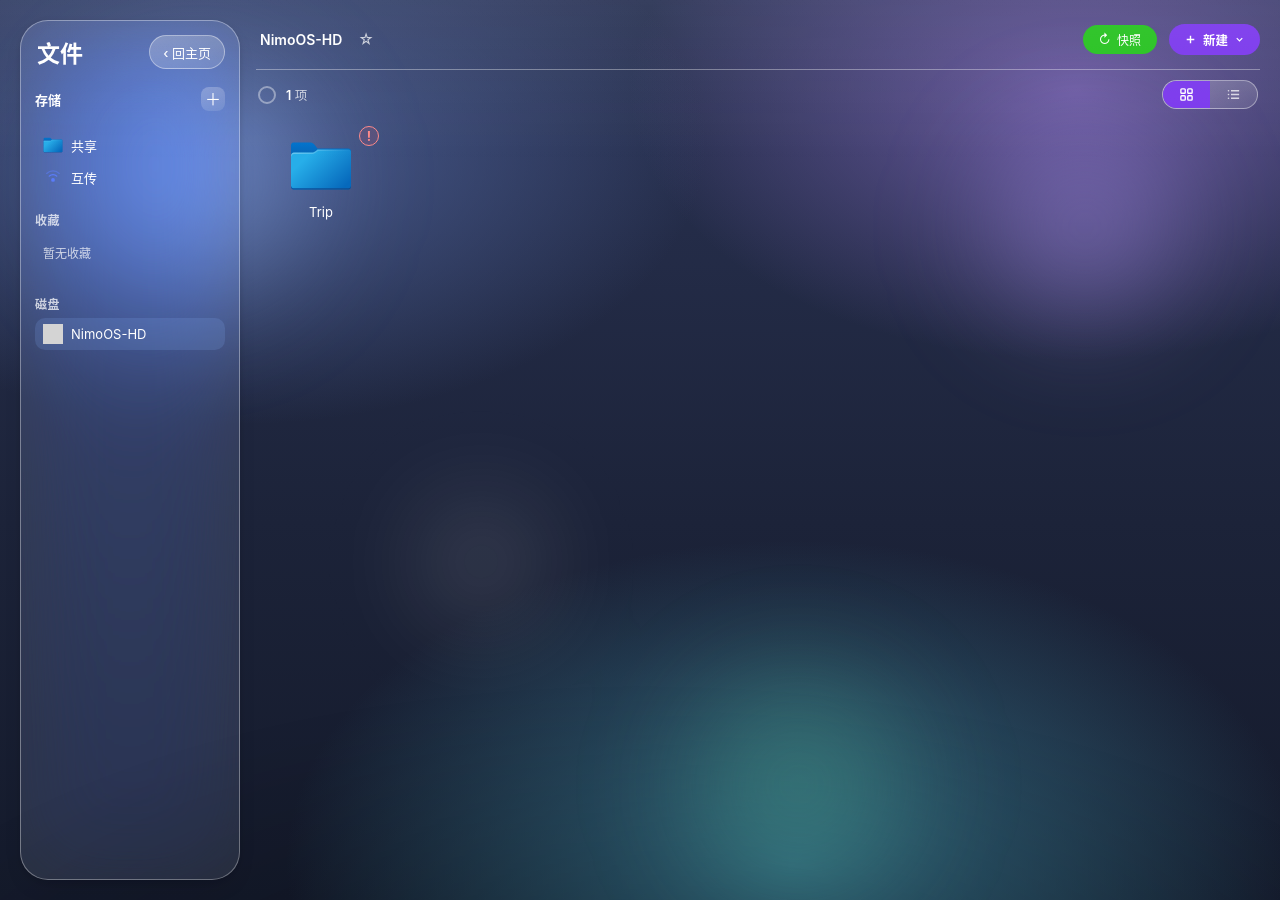
Test: Files.vue upload wiring › grid view: clicking the torn badge opens the batch dialog (open-batch forwarding)
Click the button with class "upload-broken-badge" at (369, 136), box [359,126,379,146]
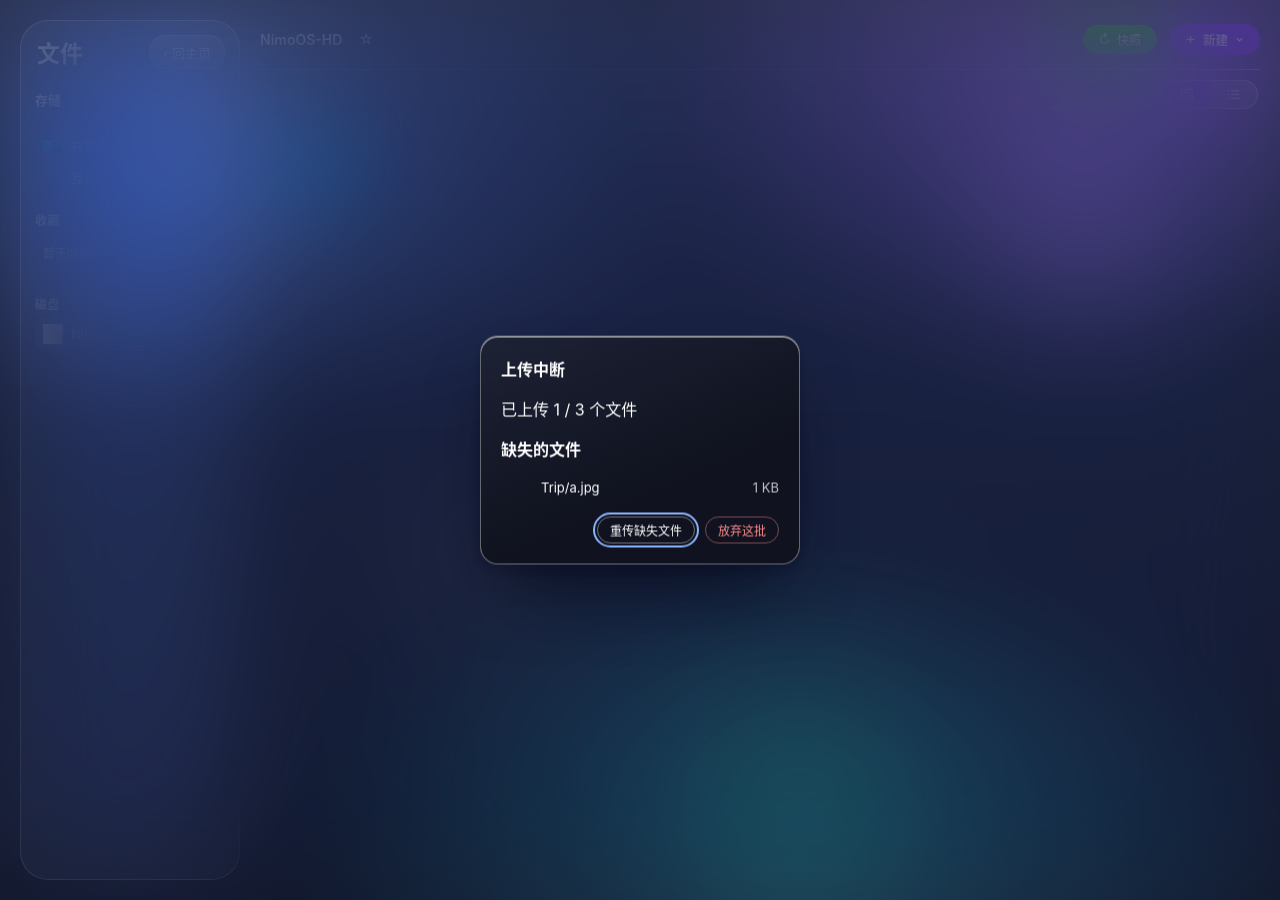
Now the text "缺失的文件" is shown, box [501,440,581,460]
Now the text "Trip/a.jpg" is shown, box [541,480,600,496]
